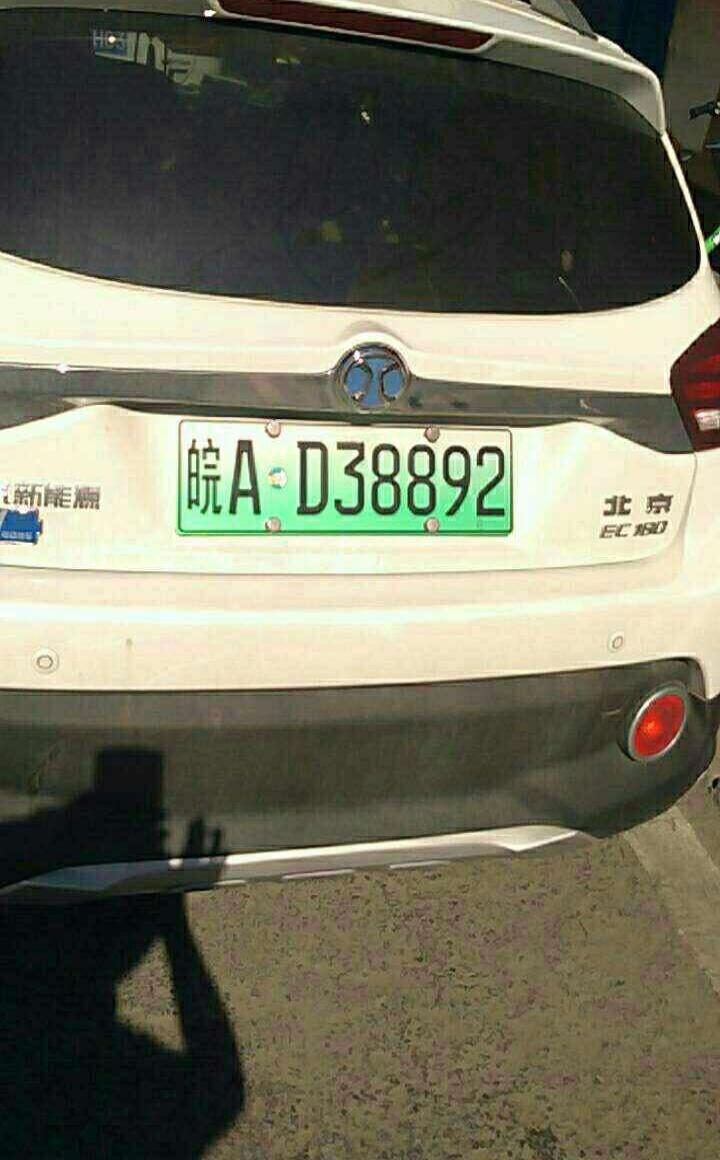car_id: (184, 422, 512, 531)
